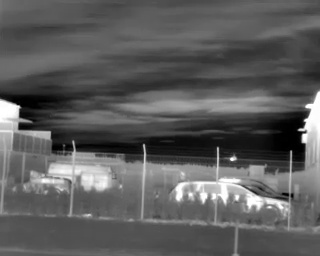HELICOPTER: (227, 152, 240, 165)
